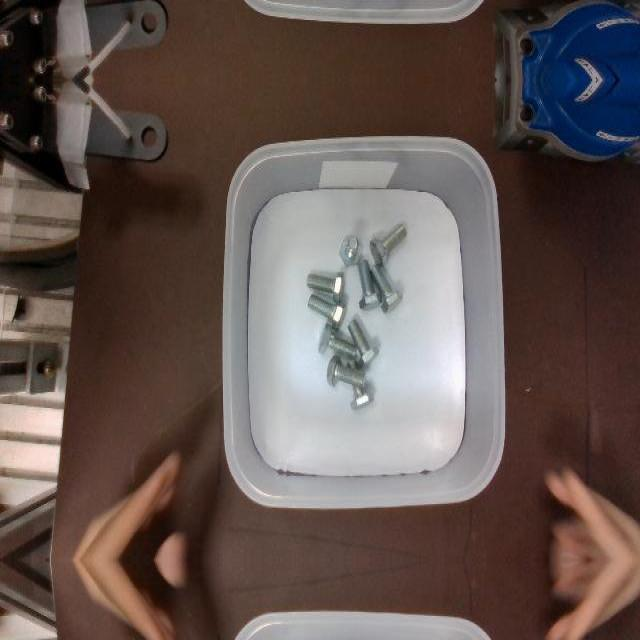screw: (369, 222, 407, 266), (370, 263, 403, 313), (348, 317, 379, 367), (307, 292, 347, 330), (326, 354, 367, 388), (318, 322, 356, 358), (358, 260, 383, 310), (306, 271, 344, 301), (339, 234, 362, 264)
